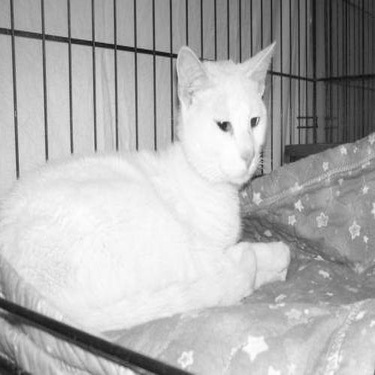cat: (5, 39, 292, 337)
